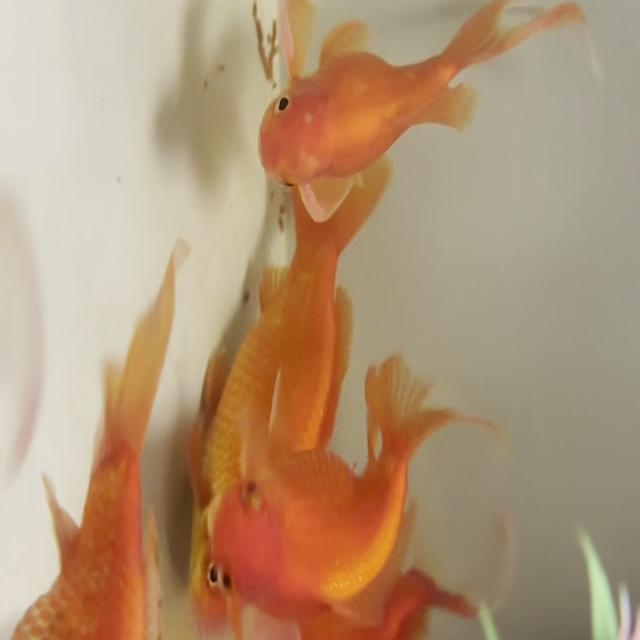fish: (202, 329, 505, 640), (0, 240, 190, 640), (256, 0, 590, 220), (205, 173, 373, 524)
